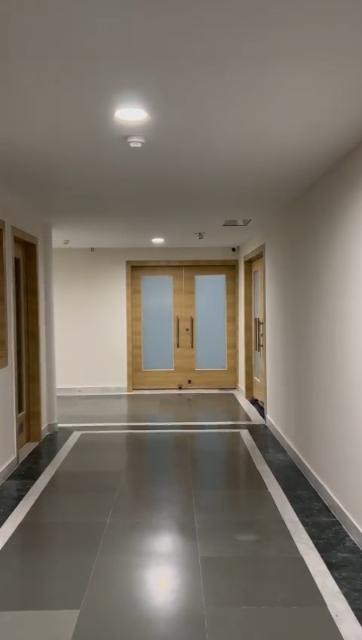door: (127, 261, 237, 389), (12, 229, 42, 447), (245, 254, 265, 398)
floor: (0, 395, 358, 640)
wall: (265, 135, 362, 525), (58, 233, 118, 385)
